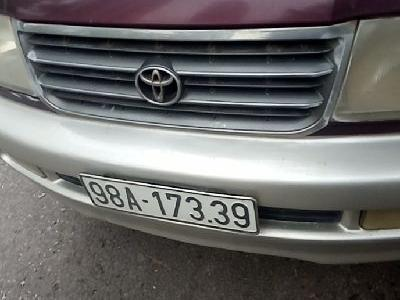car: (78, 173, 261, 237)
